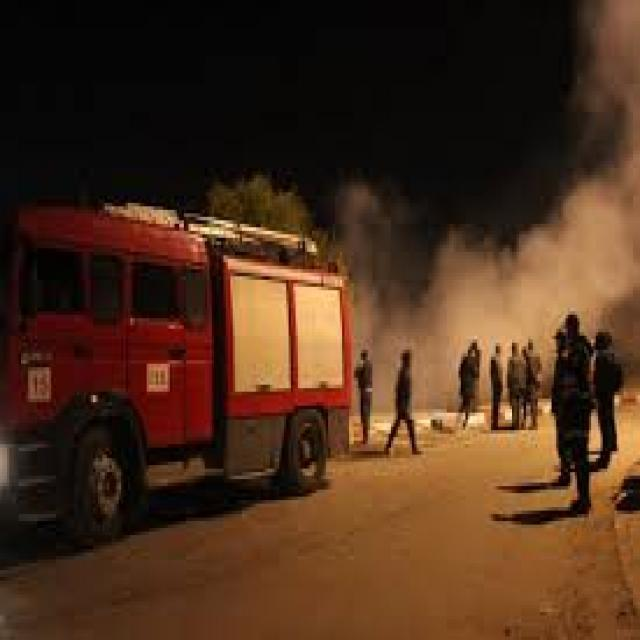pompier: (0, 200, 363, 506)
